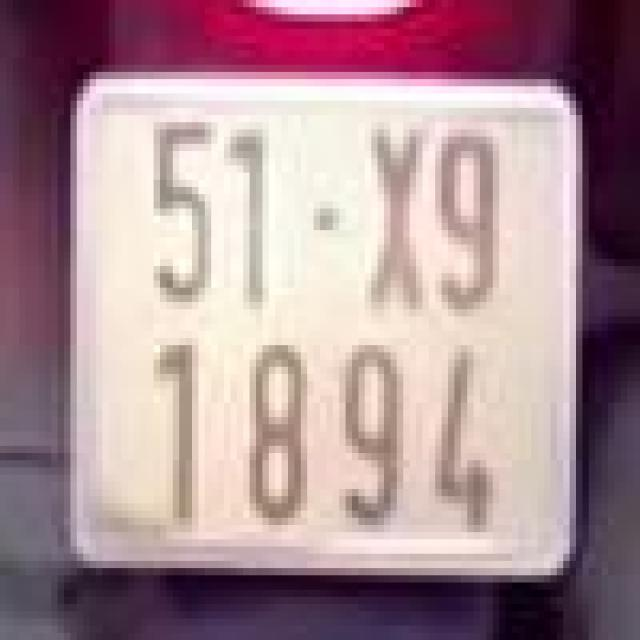1: (224, 111, 282, 320), (150, 327, 208, 529)
4: (426, 331, 508, 539)
5: (144, 115, 221, 309)
8: (234, 334, 316, 536)
9: (330, 331, 412, 546), (432, 122, 509, 309)
X: (355, 115, 432, 316)
